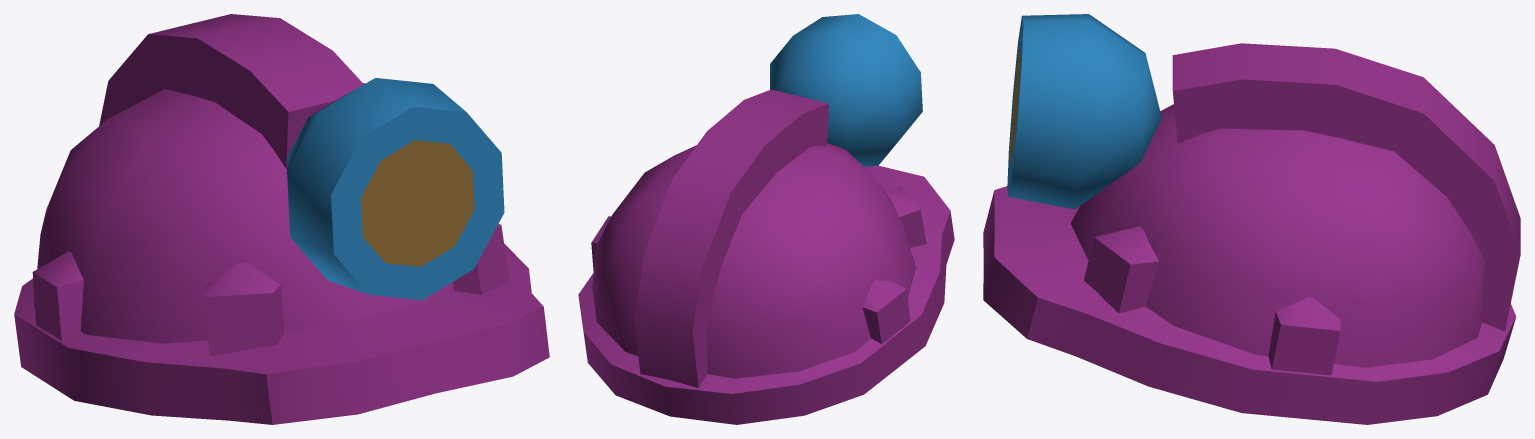
File: Miner_helmet.fbx
3 renders of one model, left to right at view 1: azimuth 30°, elevation 25°; view 2: azimuth 150°, elevation 25°; view 3: azimuth 270°, elevation 25°, orthographic. The views are drawn at different scales.
Parts seen in each view (by area): view 1: Miner_helmet_01, light_01; view 2: Miner_helmet_01, light_01; view 3: Miner_helmet_01, light_01.
Part boxes in pixels (left/top/right/bottom): Miner_helmet_01: left=14, top=14, right=549, bottom=424; light_01: left=287, top=78, right=504, bottom=300; Miner_helmet_01: left=578, top=89, right=954, bottom=424; light_01: left=770, top=14, right=922, bottom=166; Miner_helmet_01: left=983, top=43, right=1520, bottom=424; light_01: left=1007, top=14, right=1161, bottom=209.
Bounding box in the file's own units: 71 × 58.98 × 85.03.
